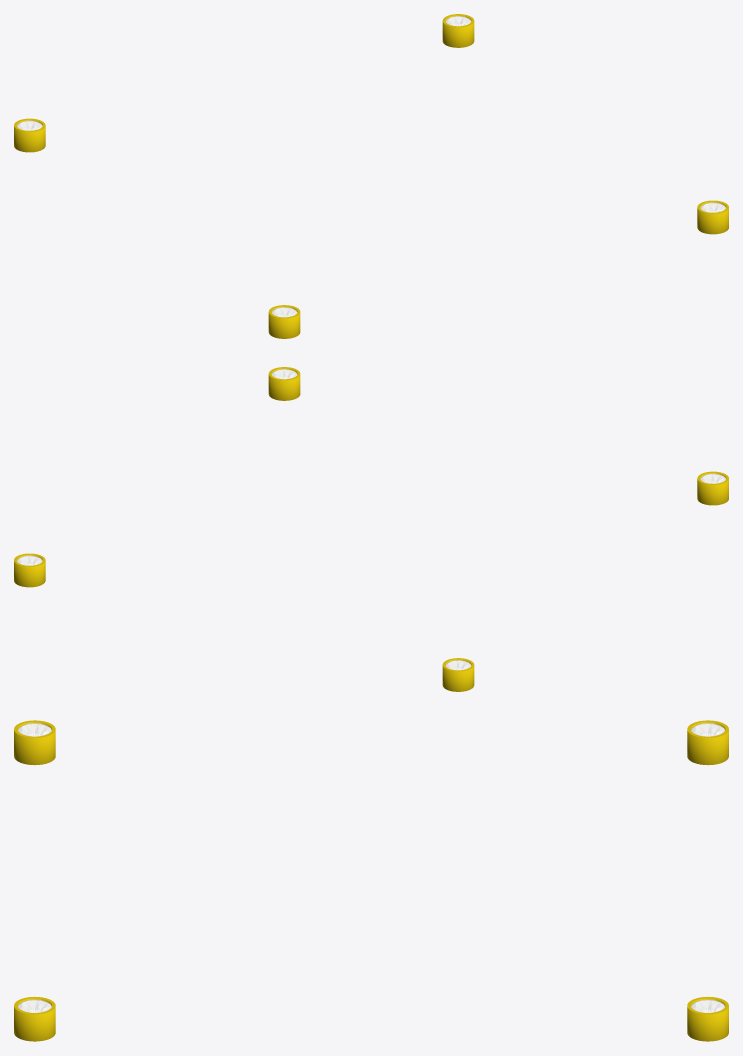
The model's file is watch_studs.glb.
The picture shows the model from 3 angles, top to bottom: view 1: azimuth 30°, elevation 25°; view 2: azimuth 150°, elevation 25°; view 3: azimuth 270°, elevation 25°; orthographic projection. The views are drawn at different scales.
Parts seen in each view (by area): view 1: setting, setting.003, setting.001, setting.002; view 2: setting.002, setting.001, setting.003, setting; view 3: setting.002, setting, setting.001, setting.003.
Part boxes in pixels (bbox=[...]): setting: bbox=[442, 14, 474, 47]; setting.003: bbox=[268, 305, 300, 338]; setting.001: bbox=[14, 118, 45, 152]; setting.002: bbox=[697, 200, 728, 234]; setting.002: bbox=[268, 367, 300, 400]; setting.001: bbox=[442, 658, 474, 691]; setting.003: bbox=[697, 471, 728, 505]; setting: bbox=[14, 553, 45, 587]; setting.002: bbox=[14, 996, 55, 1041]; setting: bbox=[687, 996, 728, 1041]; setting.001: bbox=[687, 720, 728, 765]; setting.003: bbox=[14, 720, 55, 765].
Size of the model in its own units: 1.42 by 0.063 by 1.46.
